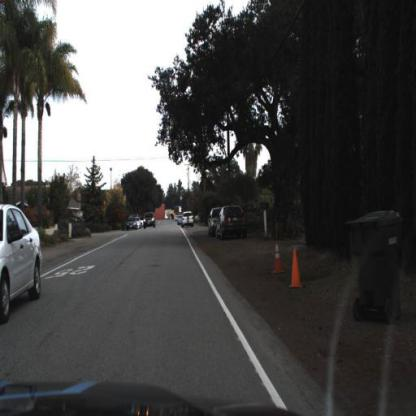car: (0, 199, 42, 326), (217, 205, 246, 240), (179, 211, 195, 231), (142, 210, 156, 232)
